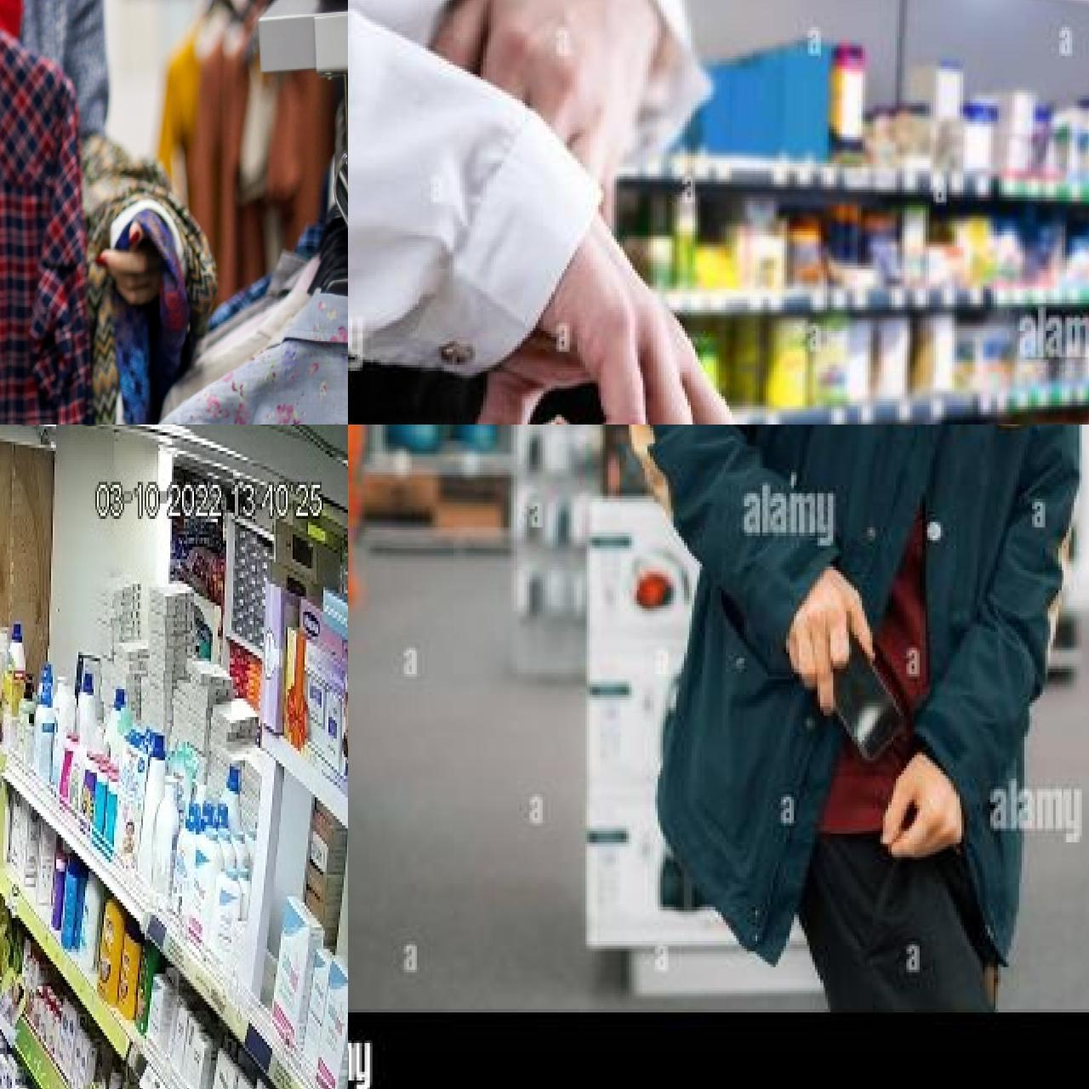shoplifting: (428, 440, 1082, 1024)
